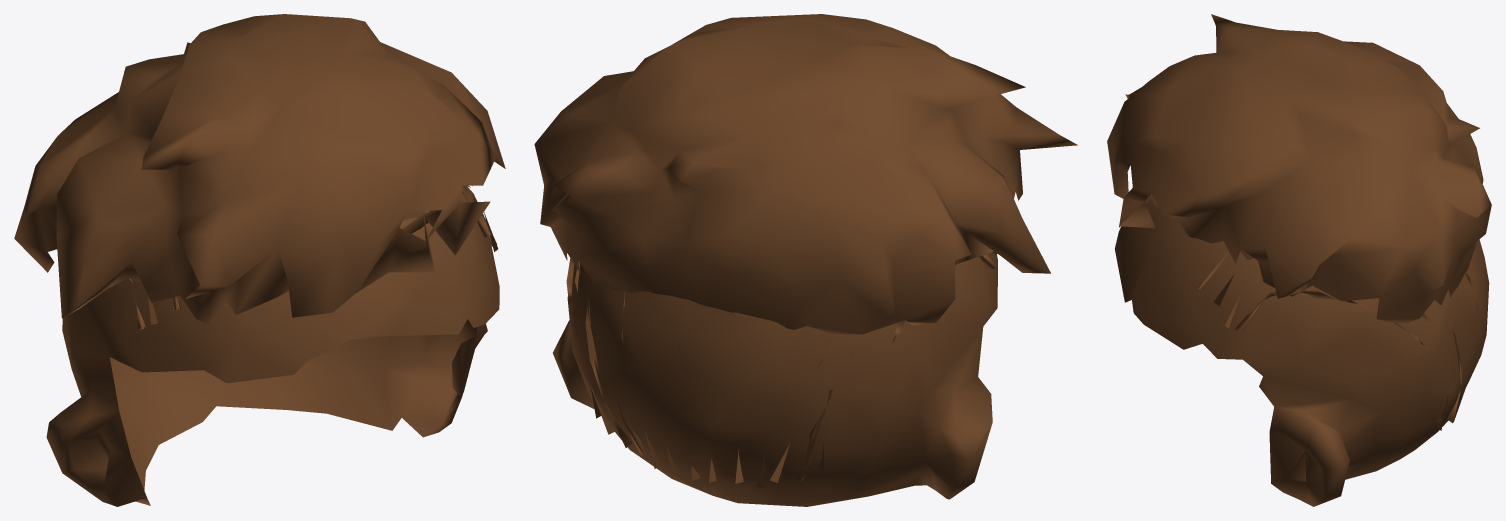
Rendered from short-fringe.glb.
3 renders of one model, left to right at view 1: azimuth 30°, elevation 25°; view 2: azimuth 150°, elevation 25°; view 3: azimuth 270°, elevation 25°, orthographic. The views are drawn at different scales.
Parts seen in each view (by area): view 1: Hair, HairScalp, HairPulledRootStrands; view 2: Hair, HairScalp, HairPulledRootStrands; view 3: Hair, HairScalp, HairPulledRootStrands.
Part boxes in pixels (x1,y1,x2,y2): Hair: [14, 14, 505, 323]; HairScalp: [46, 186, 499, 506]; HairPulledRootStrands: [129, 185, 498, 329]; Hair: [534, 14, 1077, 334]; HairScalp: [553, 252, 997, 506]; HairPulledRootStrands: [566, 251, 997, 489]; Hair: [1107, 14, 1491, 324]; HairScalp: [1115, 193, 1489, 506]; HairPulledRootStrands: [1187, 222, 1486, 430].
Bounding box in the file's own units: 0.5441 × 0.4727 × 0.444.
